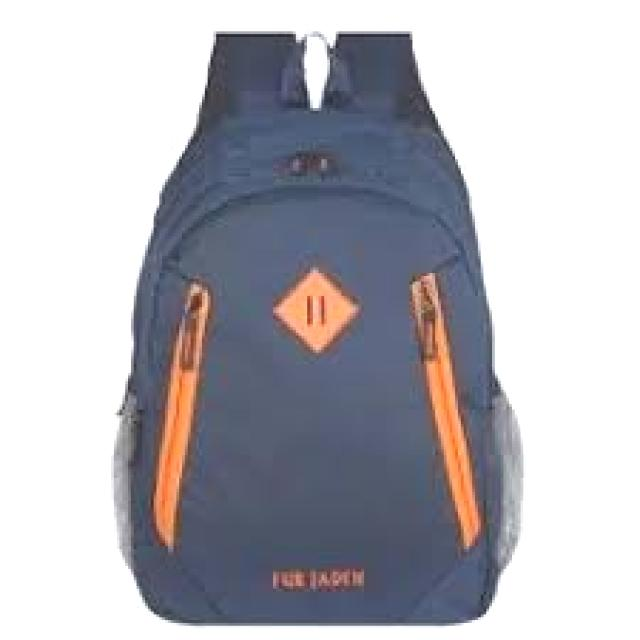backpack: (112, 29, 524, 627)
